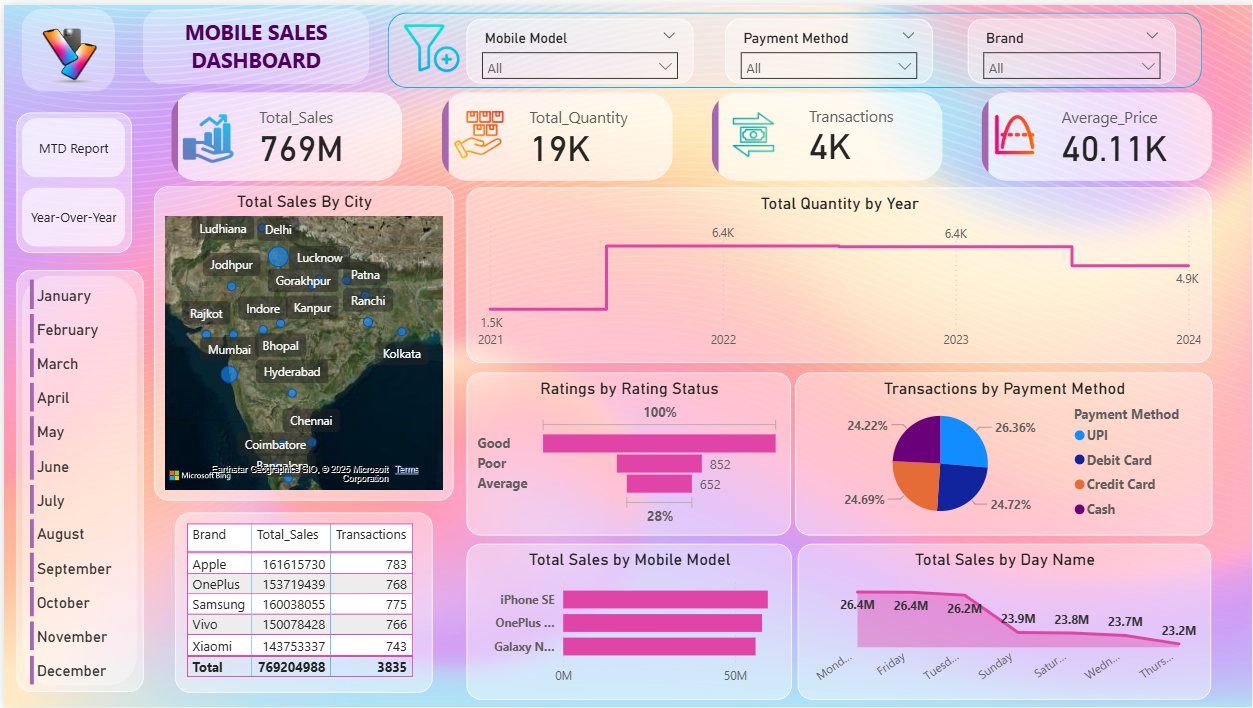

The dashboard page shown, as its layout file describes it:
{"tool":"powerbi","page":{"name":"Dashboard","canvas":[1280,720],"ordinal":0},"visuals":[{"type":"shape","box":[18.3,4.2,95.8,85],"z":0},{"type":"image","box":[16.7,0,100.8,98.3],"z":1000},{"type":"shape","box":[12.5,271.2,130,432.5],"z":2000},{"type":"advancedSlicerVisual","fields":{"Values":["Custom_Calender.Date.Variation.Date Hierarchy.Month"]},"box":[21.2,277.5,121.2,426.2],"z":3000},{"type":"cardVisual","fields":{"Data":["Sales_Data.Total_Sales","Sales_Data.Total_Quantity","Sales_Data.Transactions","Sales_Data.Average_Price"]},"box":[167.3,84.5,1078.2,101.8],"z":4000},{"type":"shape","box":[393.8,7.5,835,77.5],"z":5000},{"type":"slicer","fields":{"Values":["Sales_Data.Mobile Model"]},"box":[473.8,13.8,232.5,66.2],"z":6000},{"type":"slicer","fields":{"Values":["Sales_Data.Payment Method"]},"box":[740,13.8,212.5,66.2],"z":7000},{"type":"slicer","fields":{"Values":["Sales_Data.Brand"]},"box":[988.8,13.8,213.8,66.2],"z":8000},{"type":"image","box":[398.8,5,80,78.8],"z":9000},{"type":"shape","box":[142.5,3.8,232.5,77.5],"z":10000},{"type":"textbox","box":[142.5,7.5,232.5,68.8],"z":11000},{"type":"map","title":"Total Sales By City","fields":{"Category":["Sales_Data.City"],"Size":["Sales_Data.Total_Sales"]},"box":[153.8,186.2,307.5,322.5],"z":12000},{"type":"lineChart","title":"Total Quantity by Year","fields":{"Category":["Custom_Calender.Date.Variation.Date Hierarchy.Year","Custom_Calender.Date.Variation.Date Hierarchy.Month"],"Y":["Sales_Data.Total_Quantity"]},"box":[474.3,187.1,764.3,180],"z":13000},{"type":"funnel","title":"Ratings by Rating Status","fields":{"Y":["CountNonNull(Sales_Data.Customer Ratings)"],"Category":["Sales_Data.Rating Status"]},"box":[474.3,377.1,332.9,167.1],"z":14000},{"type":"pieChart","fields":{"Y":["Sales_Data.Transactions"],"Category":["Sales_Data.Payment Method"]},"box":[811,377,428,167],"z":15000},{"type":"clusteredBarChart","title":"Total Sales by Mobile Model","fields":{"Y":["Sales_Data.Total_Sales"],"Category":["Sales_Data.Mobile Model"]},"box":[474.4,552.2,333.3,160],"z":16000},{"type":"areaChart","title":"Total Sales by Day Name","fields":{"Y":["Sales_Data.Total_Sales"],"Category":["Custom_Calender.Day Name"]},"box":[813.8,552.5,423.8,160],"z":17000},{"type":"tableEx","fields":{"Values":["Sales_Data.Brand","Sales_Data.Total_Sales","Sales_Data.Transactions"]},"box":[175,520,263.8,185],"z":18000},{"type":"pageNavigator","box":[12.9,110,118.6,144.3],"z":19000}]}

Visuals, with their boxes in screenshot pixels (x1, y1, x2, y2), scaled from the page's 1280x720 canvas onto the 1253x708 screenshot:
shape: BBox(18, 4, 112, 88)
image: BBox(16, 0, 115, 97)
shape: BBox(12, 267, 139, 692)
advancedSlicerVisual - Custom_Calender.Date.Variation.Date Hierarchy.Month: BBox(21, 273, 139, 692)
cardVisual - Sales_Data.Total_Sales x Sales_Data.Total_Quantity: BBox(164, 83, 1219, 183)
shape: BBox(385, 7, 1203, 84)
slicer - Sales_Data.Mobile Model: BBox(464, 14, 691, 79)
slicer - Sales_Data.Payment Method: BBox(724, 14, 932, 79)
slicer - Sales_Data.Brand: BBox(968, 14, 1177, 79)
image: BBox(390, 5, 469, 82)
shape: BBox(139, 4, 367, 80)
textbox: BBox(139, 7, 367, 75)
"Total Sales By City" map: BBox(151, 183, 452, 500)
"Total Quantity by Year" lineChart: BBox(464, 184, 1212, 361)
"Ratings by Rating Status" funnel: BBox(464, 371, 790, 535)
pieChart - Sales_Data.Transactions x Sales_Data.Payment Method: BBox(794, 371, 1213, 535)
"Total Sales by Mobile Model" clusteredBarChart: BBox(464, 543, 791, 700)
"Total Sales by Day Name" areaChart: BBox(797, 543, 1211, 701)
tableEx - Sales_Data.Brand x Sales_Data.Total_Sales: BBox(171, 511, 430, 693)
pageNavigator: BBox(13, 108, 129, 250)
